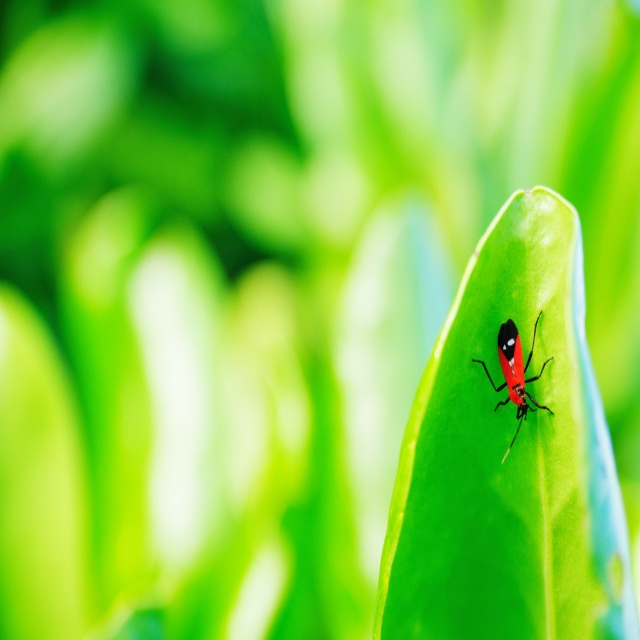Ladybug: (468, 316, 561, 472)
